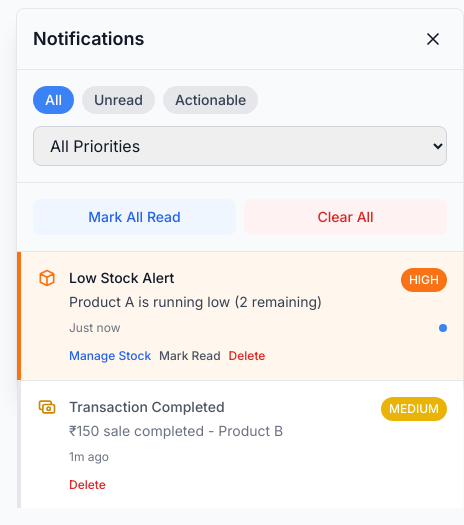
Test: Notification UI Integration › NotificationPanel Integration › should filter notifications correctly
# Filter by unread
Click the button "Unread".
click(118, 100)  # box [82, 86, 155, 114]
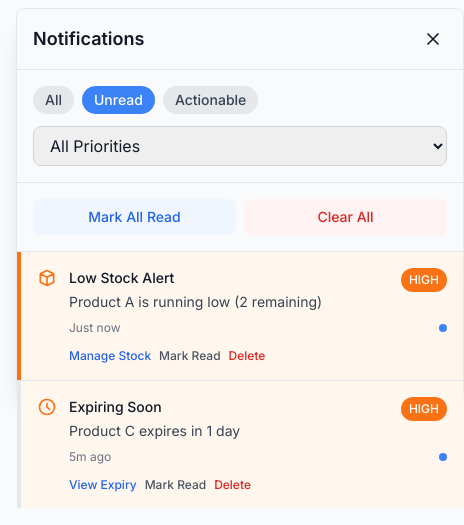
expect the text "Low Stock Alert" is shown: met, box [69, 269, 174, 286]
expect the text "Expiring Soon" is shown: met, box [69, 398, 162, 415]
expect the text "Transaction Completed" is gone: met
